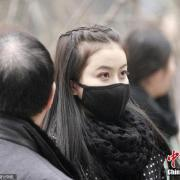OK: (82, 62, 132, 112)
